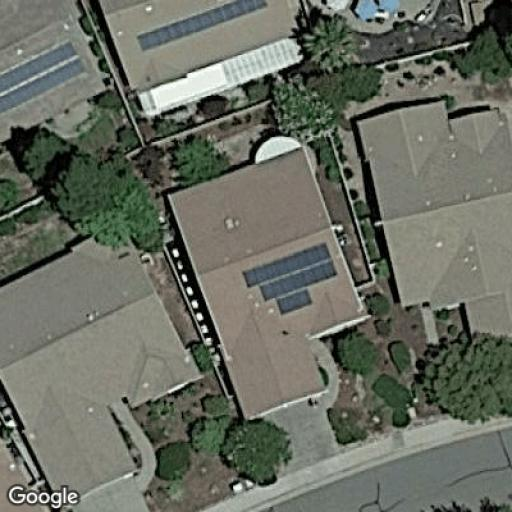solar-panel: (242, 239, 340, 317), (132, 0, 273, 54), (0, 43, 85, 111)
